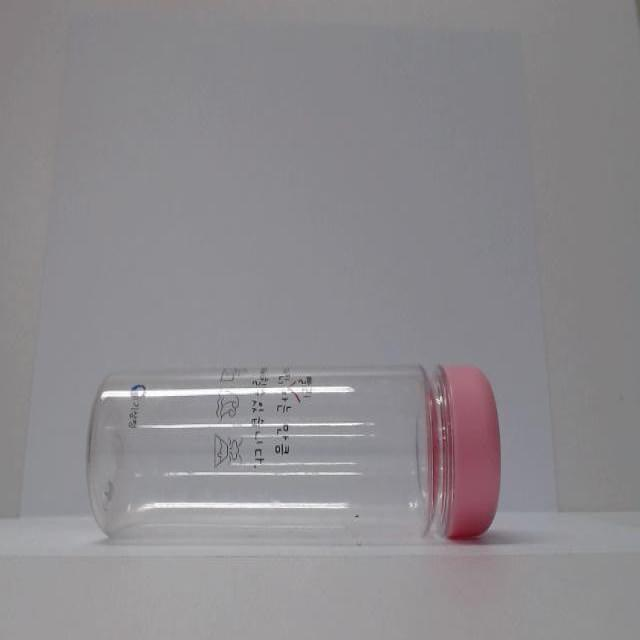bottle: (73, 345, 504, 547)
